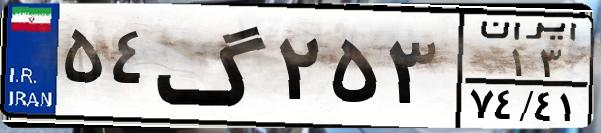1: (560, 70, 590, 125), (508, 27, 537, 80)
2: (270, 28, 330, 110)
3: (385, 28, 445, 110), (537, 27, 568, 80)
4: (110, 28, 156, 98), (495, 70, 520, 125), (535, 70, 560, 125)
5: (330, 28, 385, 110), (57, 26, 110, 100)
7: (470, 70, 495, 125)
گ: (156, 12, 270, 120)
